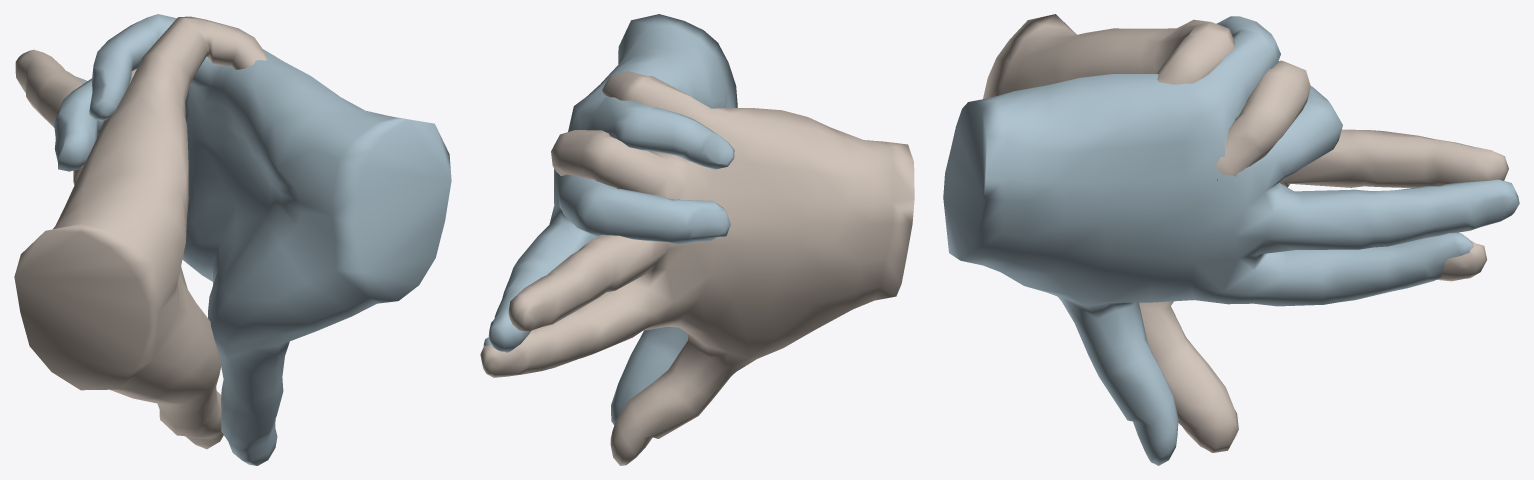
File: pred_0.glb
The picture shows the model from 3 angles, left to right: view 1: azimuth 30°, elevation 25°; view 2: azimuth 150°, elevation 25°; view 3: azimuth 270°, elevation 25°; orthographic projection. The views are drawn at different scales.
Bounding box in the file's own units: 0.1377 × 0.1498 × 0.1858.
